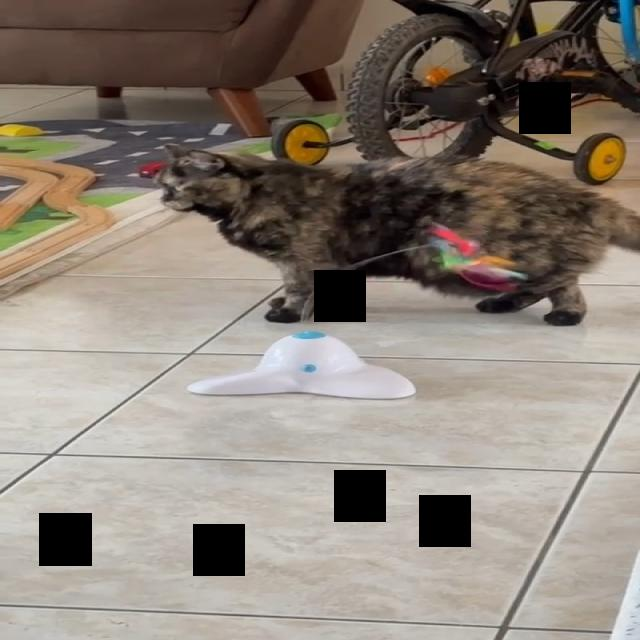authorized: (152, 142, 639, 326)
